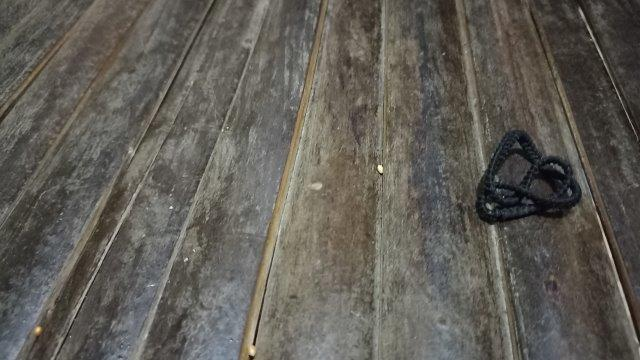karet: (476, 130, 583, 223)
